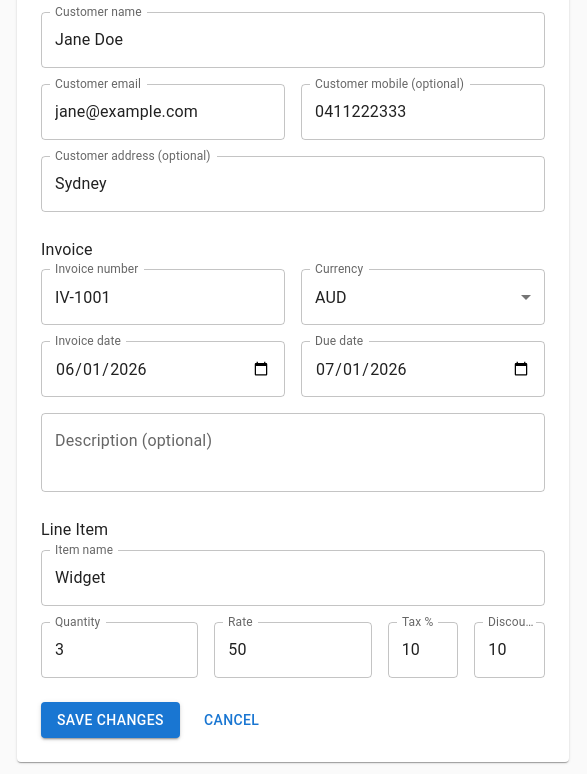
it: EditInvoicePage › surfaces a 409 error from the backend (e.g. the invoice stopped being Draft) without crashing
(page scrolled)
Check: the field showing "Jane Doe" is shown, box [41,12,545,68]
Click the button "Save Changes". click: (110, 720)
box: [41,702,180,738]
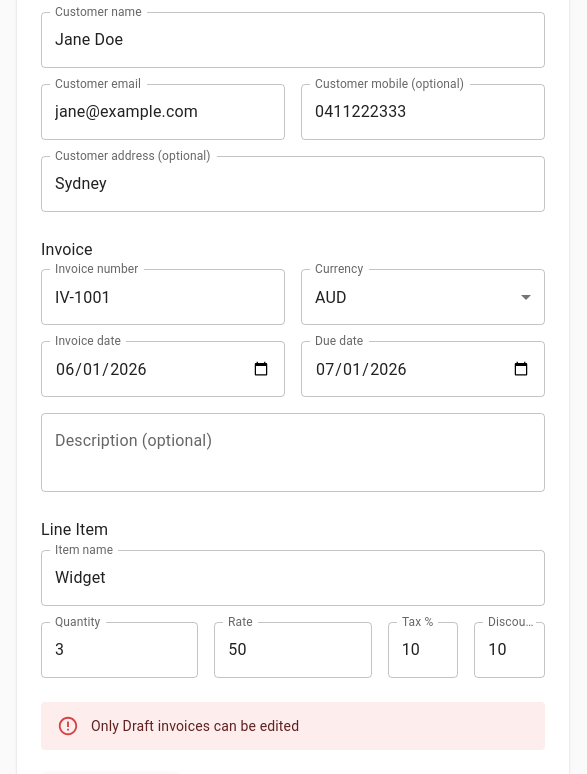
Check: the text "Only Draft invoices can be edited" is shown, box [91,718,299,734]
